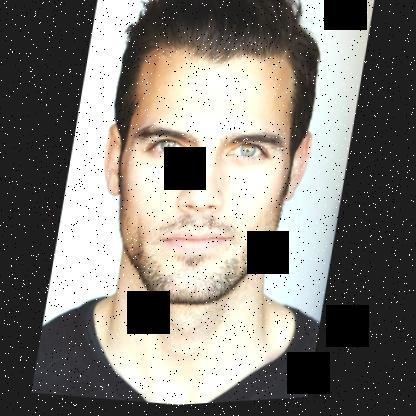Male: (79, 33, 325, 325)
